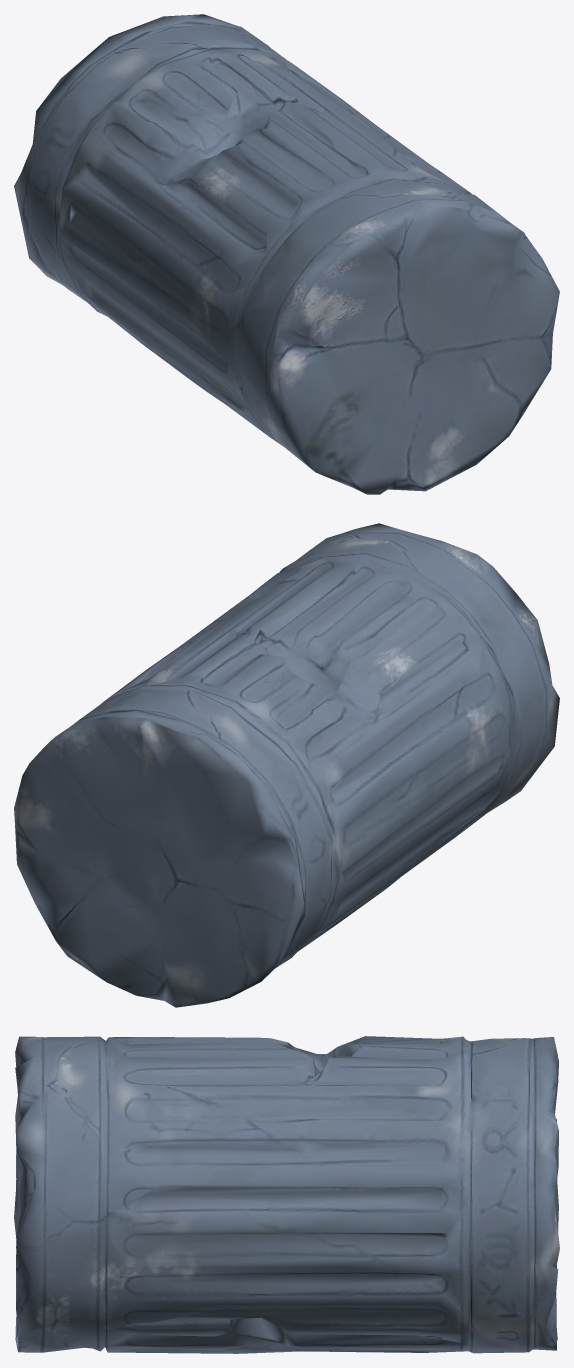
File: arena_drum.glb
The picture shows the model from 3 angles, top to bottom: view 1: azimuth 30°, elevation 25°; view 2: azimuth 150°, elevation 25°; view 3: azimuth 270°, elevation 25°; orthographic projection.
Parts seen in each view (by area): view 1: tripo_node_c3c610d3-3bb6-416b-9aef-41b370113e54; view 2: tripo_node_c3c610d3-3bb6-416b-9aef-41b370113e54; view 3: tripo_node_c3c610d3-3bb6-416b-9aef-41b370113e54.
Boxes of the visible parts, box(x1,y1,x2,y2) form: tripo_node_c3c610d3-3bb6-416b-9aef-41b370113e54: box(14, 14, 559, 494); tripo_node_c3c610d3-3bb6-416b-9aef-41b370113e54: box(14, 523, 559, 1007); tripo_node_c3c610d3-3bb6-416b-9aef-41b370113e54: box(14, 1036, 559, 1353).
Bounding box in the file's own units: 0.6106 × 0.5771 × 1.
1 material, 1 textured.
